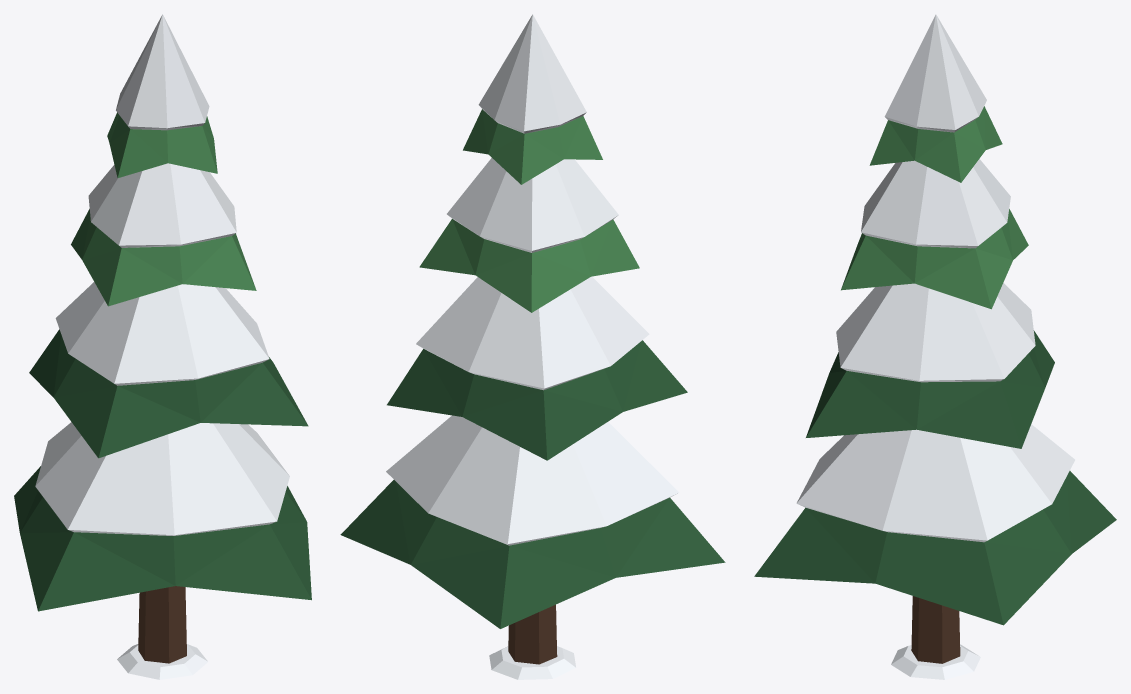
Rendered from pine_a.glb.
3 renders of one model, left to right at view 1: azimuth 30°, elevation 25°; view 2: azimuth 150°, elevation 25°; view 3: azimuth 270°, elevation 25°, orthographic.
Parts seen in each view (by area): view 1: Tree; view 2: Tree; view 3: Tree.
Boxes of the visible parts, x1,y1,x2,y2 form: Tree: [14, 14, 311, 679]; Tree: [340, 14, 725, 679]; Tree: [754, 14, 1116, 679].
Size of the model in its own units: 3.59 by 7 by 3.56.
